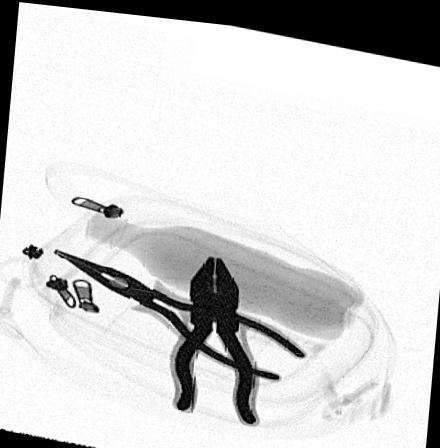Pliers: (49, 246, 312, 375), (167, 249, 258, 420)
